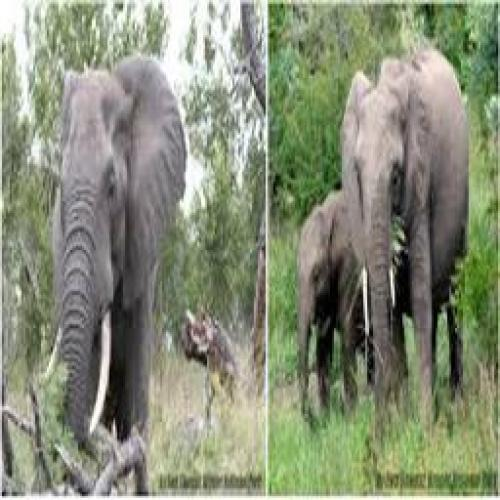african_elephant-endangered: (40, 54, 186, 500), (339, 44, 470, 423), (295, 191, 379, 431)
